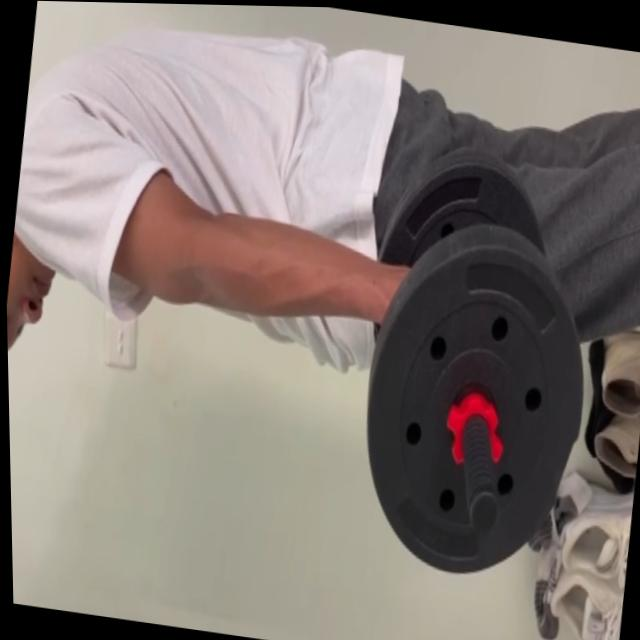dumbbell: (338, 143, 612, 590)
